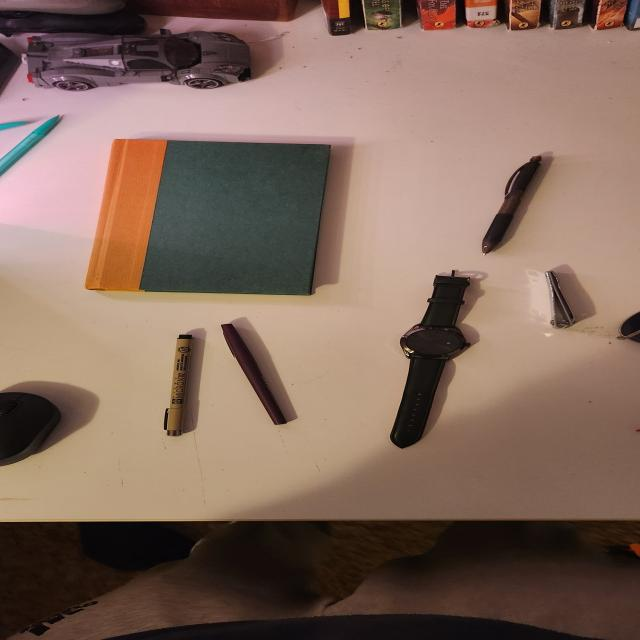Book: (81, 134, 352, 309)
Pen: (230, 317, 298, 425), (481, 154, 553, 255), (161, 329, 206, 443)
Watch: (391, 275, 477, 451)
